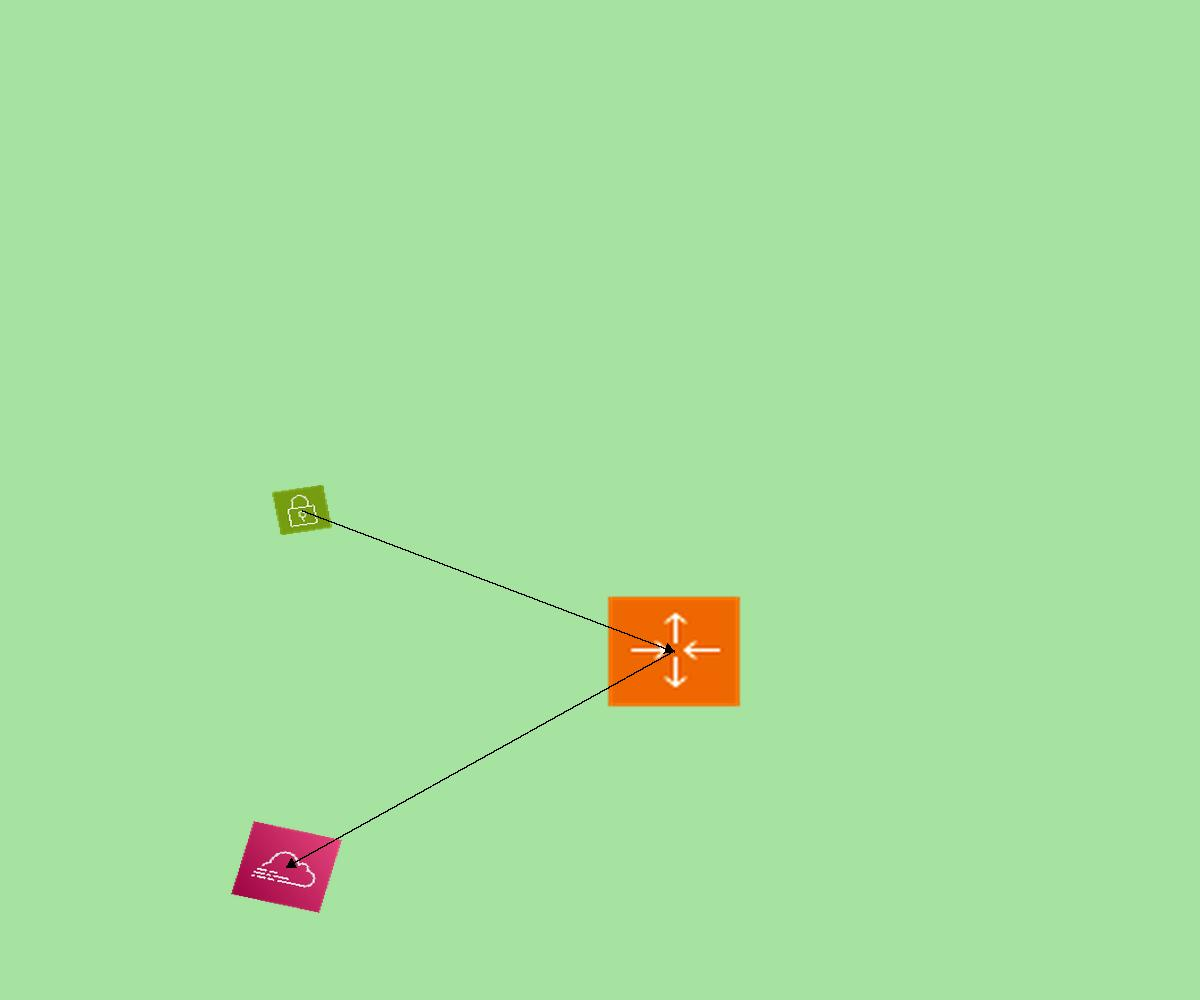AWS-CloudTrail: (231, 821, 342, 913)
AWS-Public-subnet: (271, 484, 333, 536)
AWS-Scaling-group: (605, 594, 743, 709)
